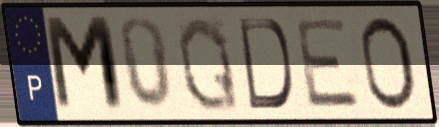0: (118, 14, 175, 114)
D: (236, 15, 296, 112)
E: (292, 16, 364, 111)
M: (40, 13, 129, 116)
O: (358, 14, 421, 113)
Q: (175, 13, 243, 114)
